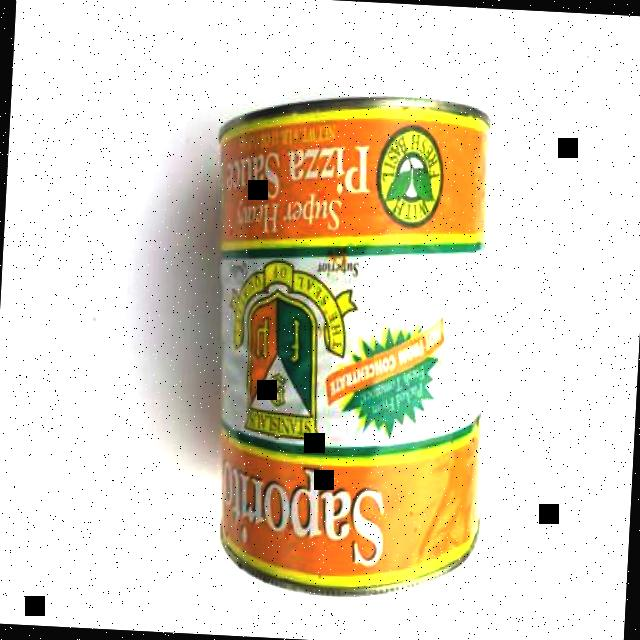can: (190, 85, 504, 610)
